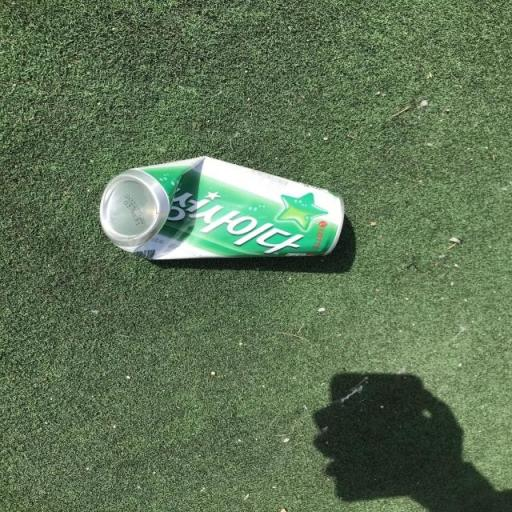metal: (68, 142, 362, 286)
